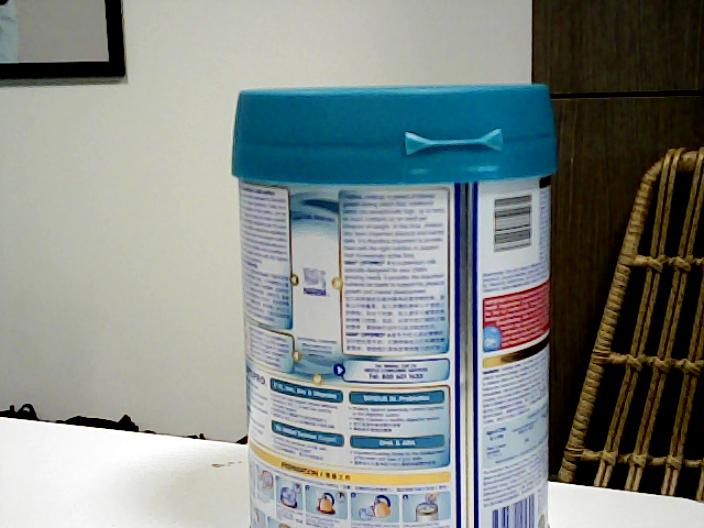Babymilk-powder_800-899g_Halal_Healthy: (229, 83, 556, 528)
